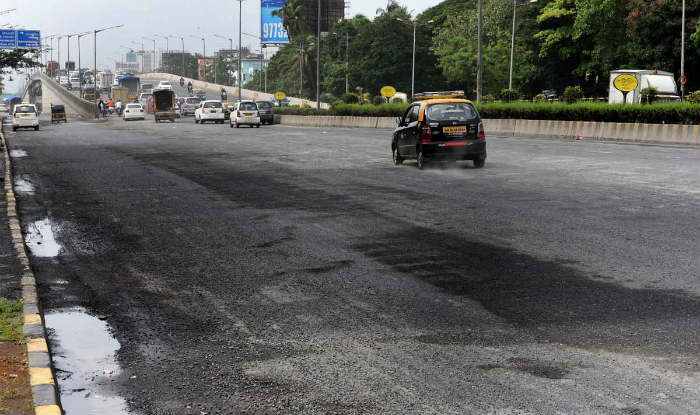pothole: (30, 291, 110, 412), (16, 195, 55, 262), (10, 164, 36, 202), (10, 128, 31, 164)
